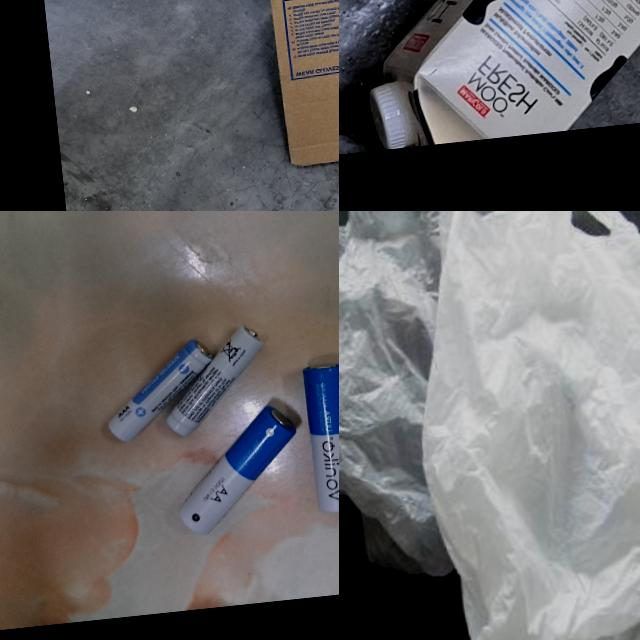bateria: (168, 400, 307, 538), (99, 336, 222, 444), (157, 324, 271, 438), (302, 360, 339, 513)
caixinha: (339, 0, 640, 150)
papelão: (232, 0, 339, 168)
sacola plástica: (385, 211, 640, 640), (339, 211, 560, 618)
tampa plástica: (364, 80, 416, 150)
